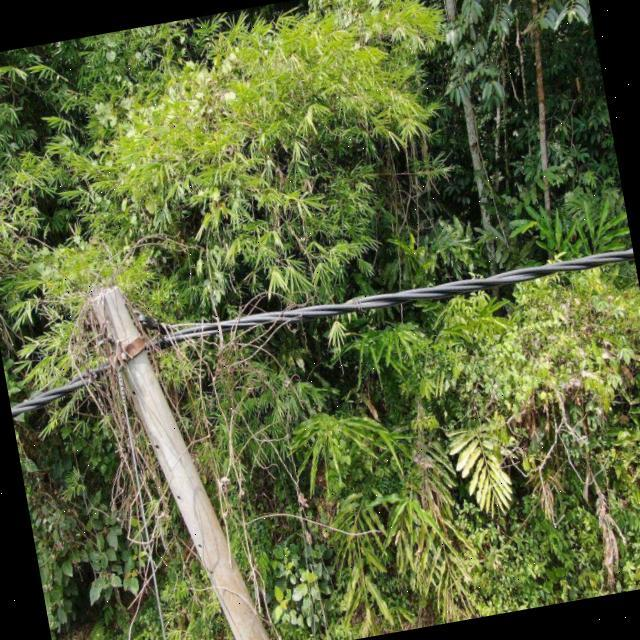critical vegetation: (27, 209, 340, 640)
